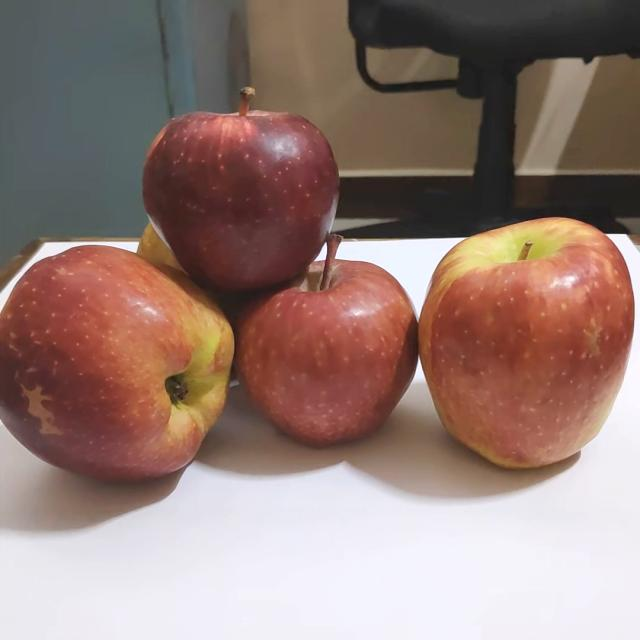apple: (1, 240, 250, 482), (422, 208, 636, 476), (139, 79, 353, 292), (234, 225, 426, 446), (132, 204, 208, 278)
